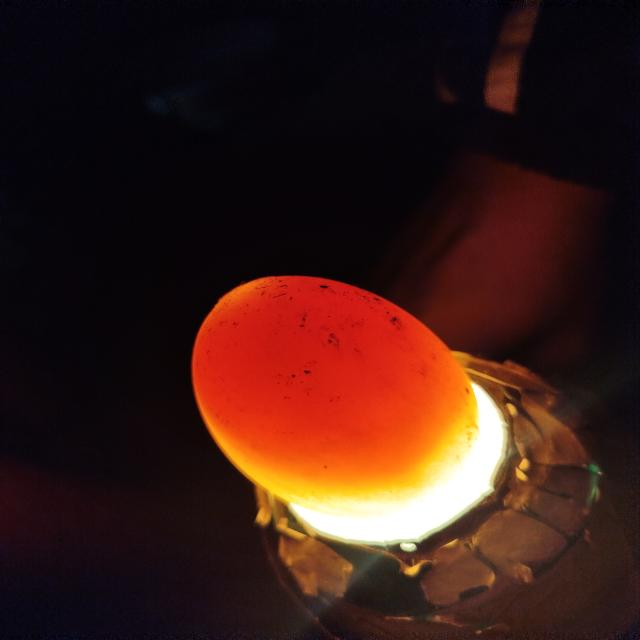Gema Quebrada: (190, 276, 465, 482)
